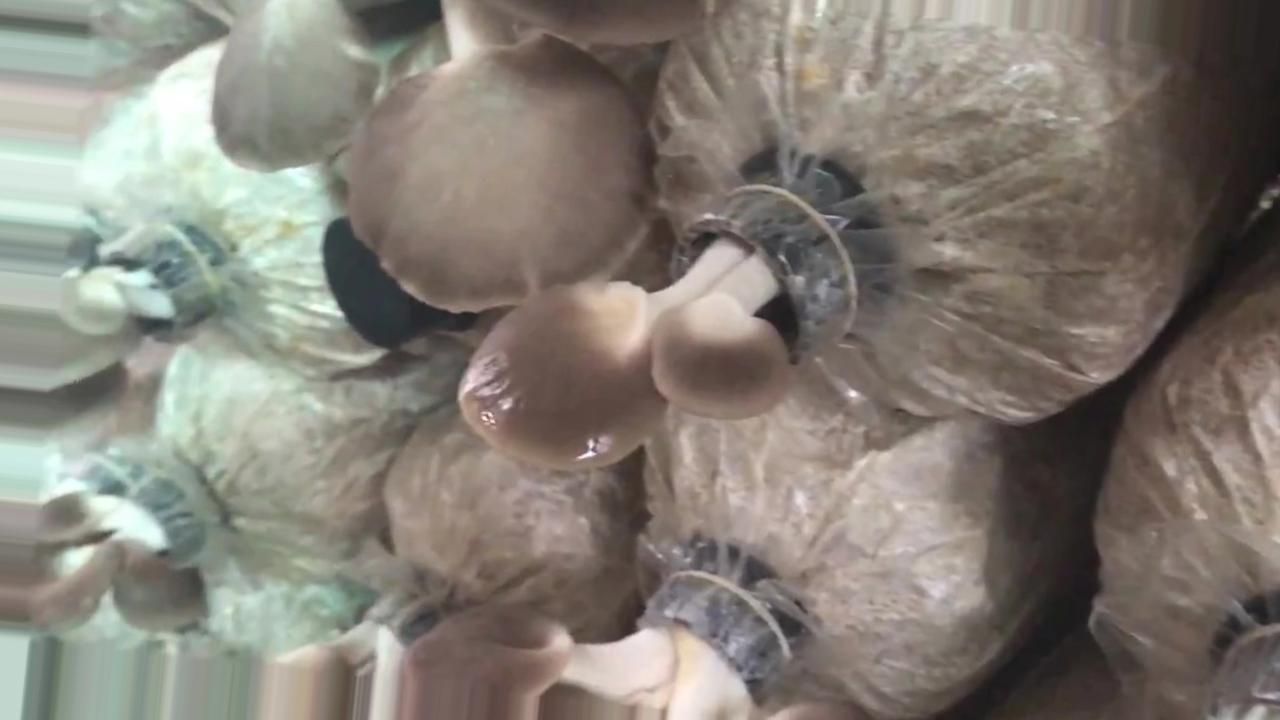nam: (212, 1, 711, 317), (455, 168, 861, 471), (399, 559, 805, 720), (32, 463, 214, 652), (259, 574, 457, 720), (60, 218, 214, 350)
